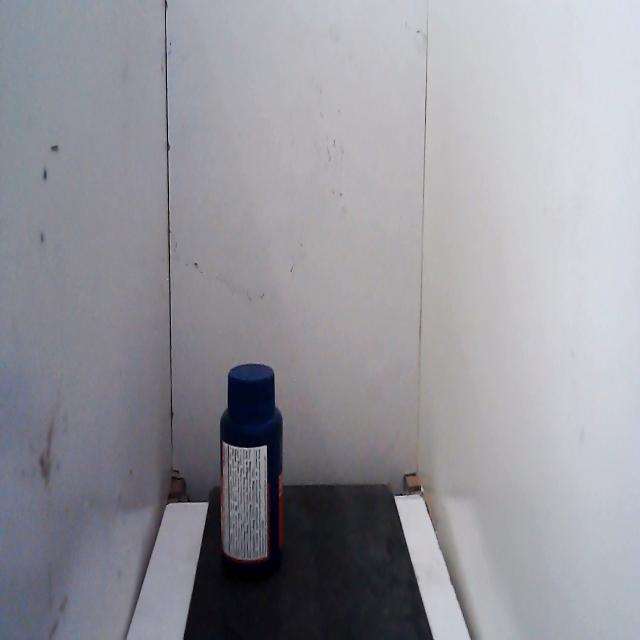plastico: (208, 354, 304, 588)
